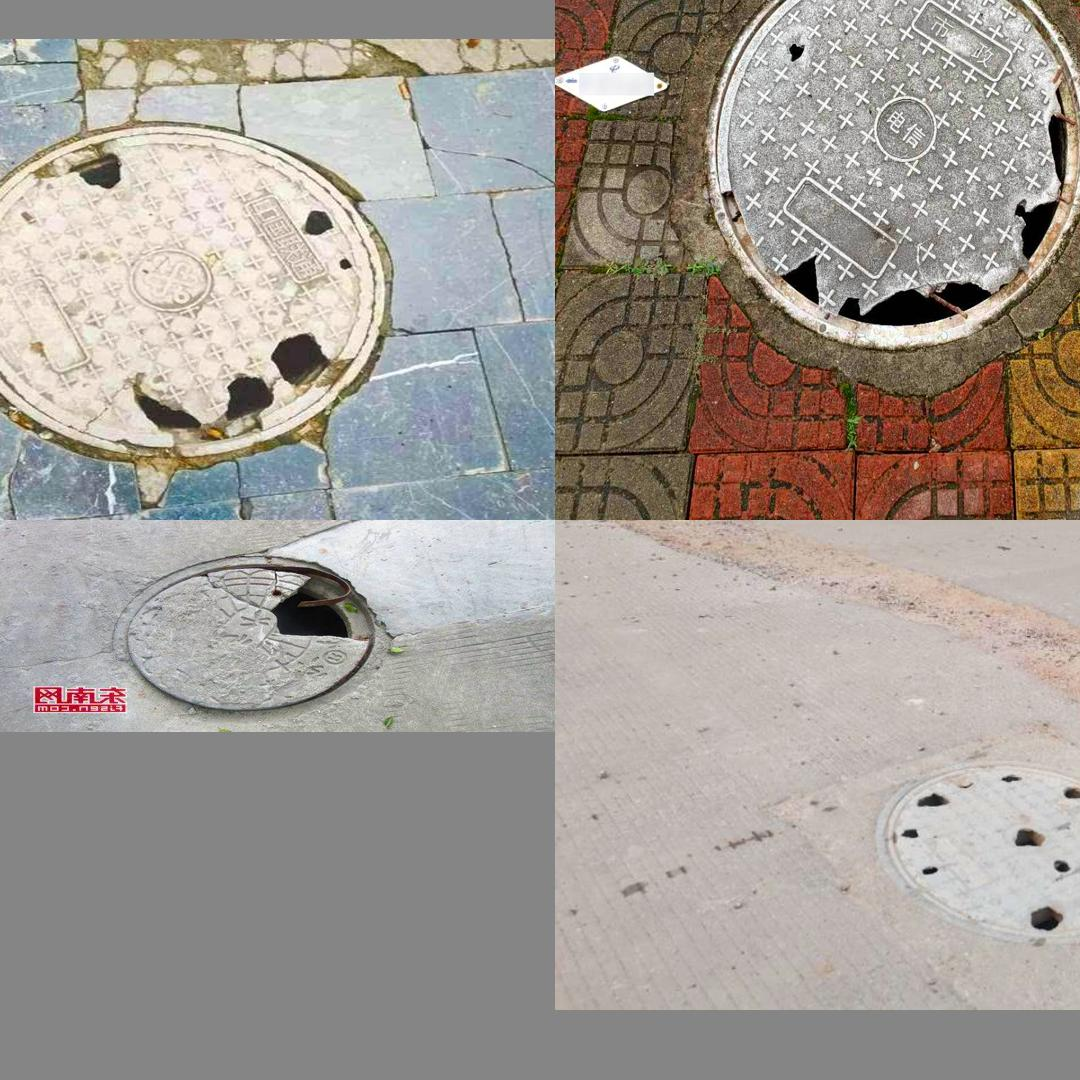broke: (703, 0, 1080, 353), (0, 126, 386, 458), (106, 550, 397, 720), (877, 760, 1080, 938)
